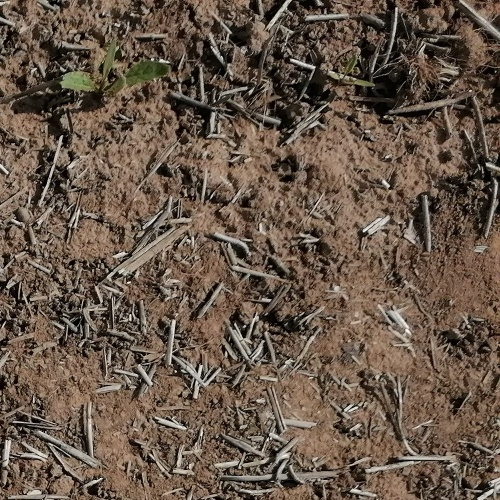beet: (62, 41, 171, 95), (335, 55, 375, 89)
